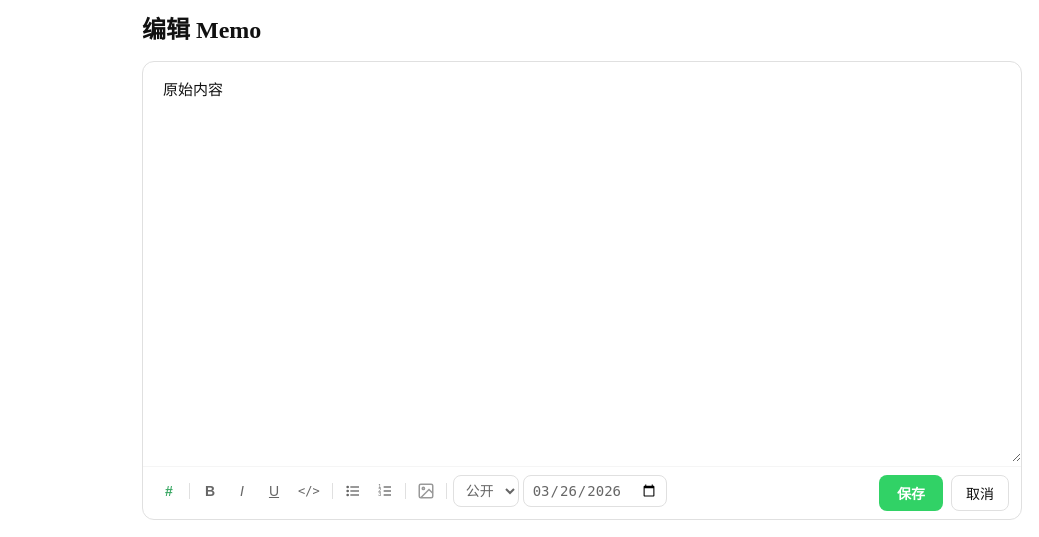
Test: MemoEditPage tag navigation › closes the tag dropdown when the textarea loses focus
Step 1. Replace the text in the text box showing "原始内容" with "#" → (582, 262), box left=143, top=62, right=1021, bottom=462
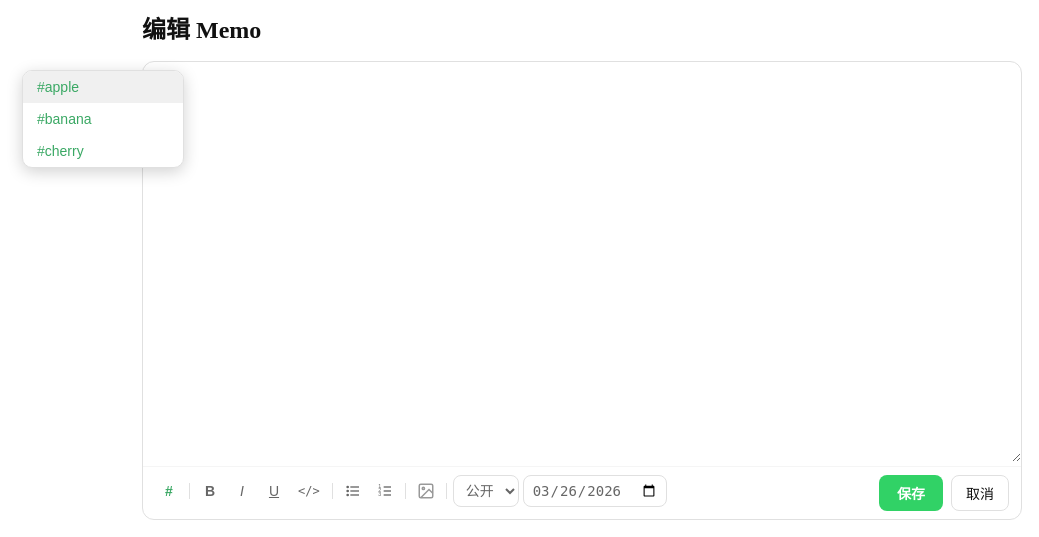
Now the button "#apple" is shown, box left=23, top=71, right=183, bottom=103
Step 2. Leave the text box showing "原始内容"
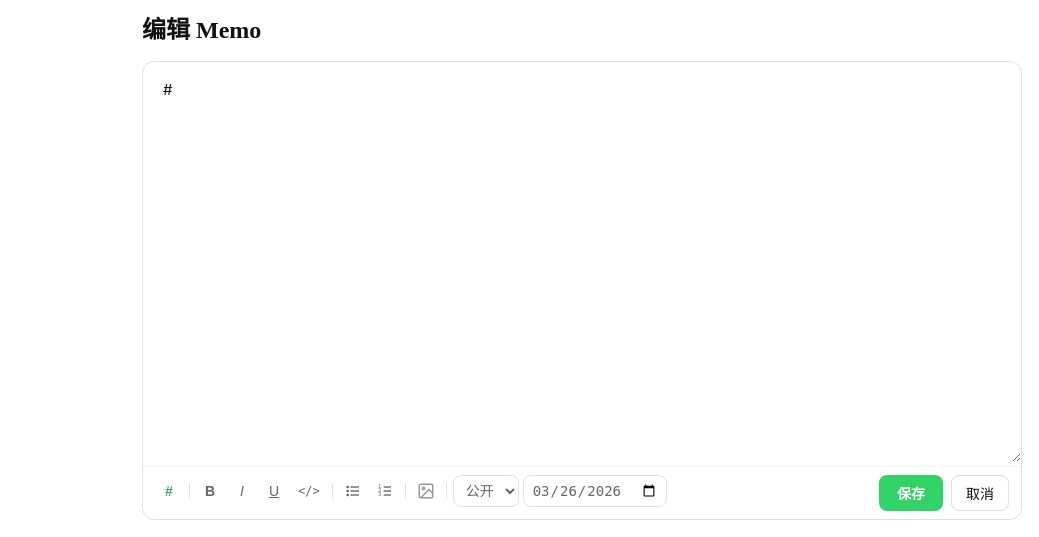
Now the button "#apple" is gone
